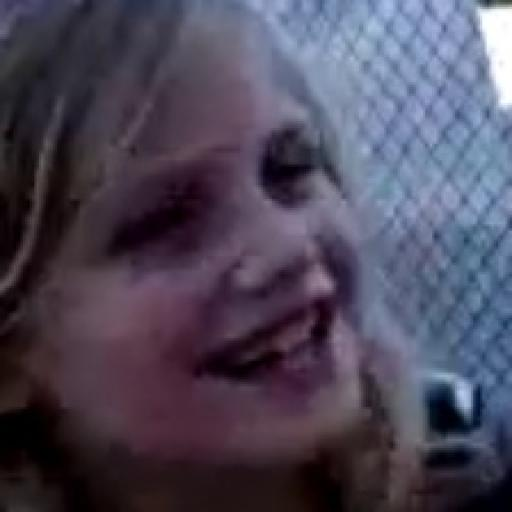Autism: (20, 20, 406, 462)
